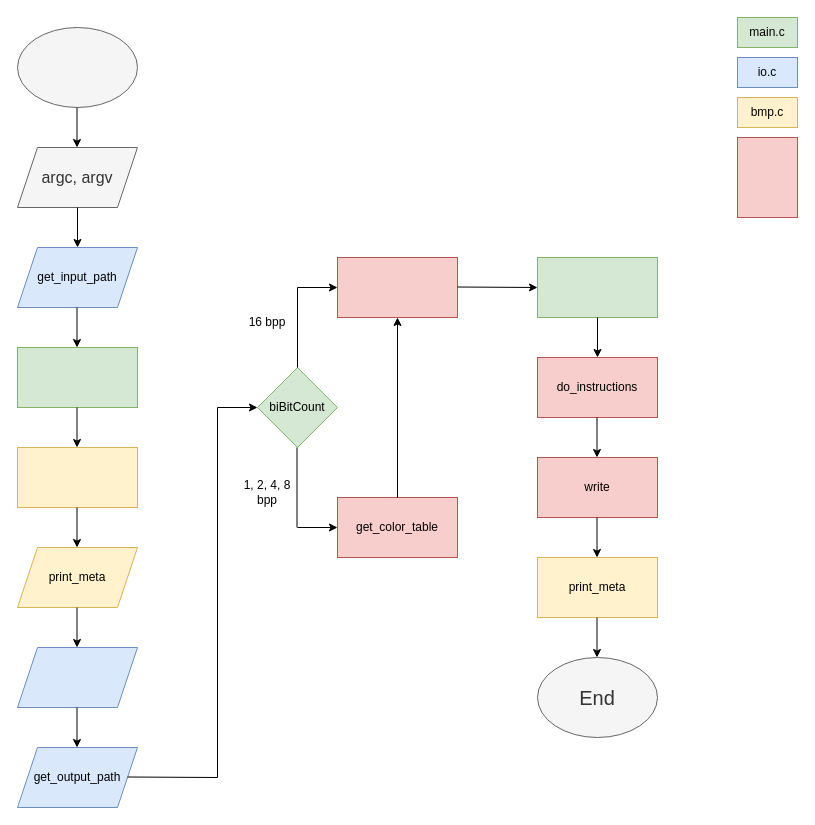
The diagram is 815 pixels wide and 825 high, and some of its shapes have lost their labels. Here are the shapes that lost their labels. From the top down, the centre of each, then its label:
At (77,67): "Start".
At (767,177): "1bbp.c 2bpp.c 4bpp.c 8bpp.c 16bpp.c".
At (397,287): "get_pixel_array".
At (597,287): "Close bmp_in".
At (77,377): "Open bmp_in".
At (77,477): "get_meta".
At (77,677): "get_instructions".
